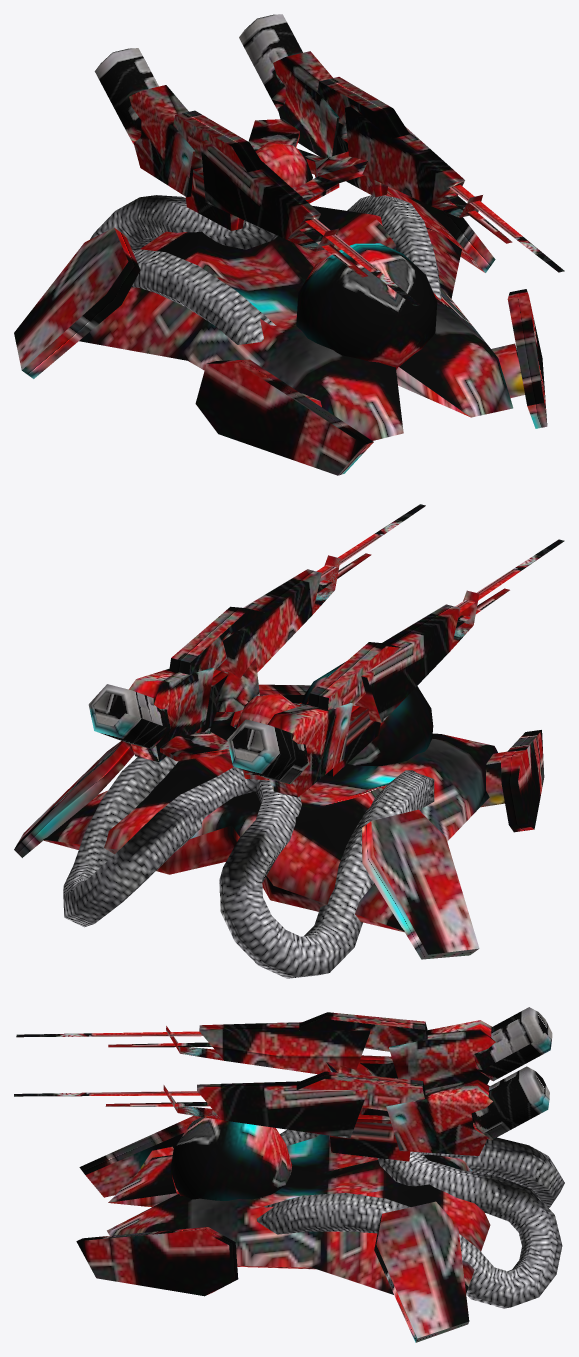
The model's file is CottusTwinCannon.obj.
The picture shows the model from 3 angles, top to bottom: view 1: azimuth 30°, elevation 25°; view 2: azimuth 150°, elevation 25°; view 3: azimuth 270°, elevation 25°; orthographic projection. The views are drawn at different scales.
Parts seen in each view (by area): view 1: cottus_body02, cottus_plasma_gun; view 2: cottus_body02, cottus_plasma_gun; view 3: cottus_body02, cottus_plasma_gun.
Part boxes in pixels (x1,y1,x2,y2): cottus_body02: (14,142,547,475); cottus_plasma_gun: (94,14,564,306); cottus_body02: (14,662,544,978); cottus_plasma_gun: (88,504,564,797); cottus_body02: (76,1107,564,1342); cottus_plasma_gun: (14,1007,552,1161).
Size of the model in its own units: 75.58 by 39.24 by 90.24.
Materials: 2 (2 with a texture image).
